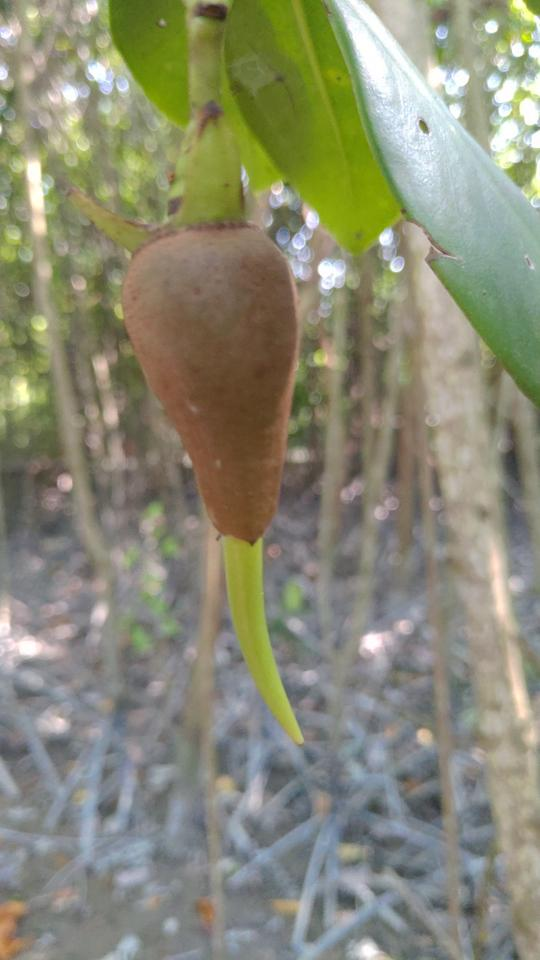mentah: (53, 119, 328, 766)
